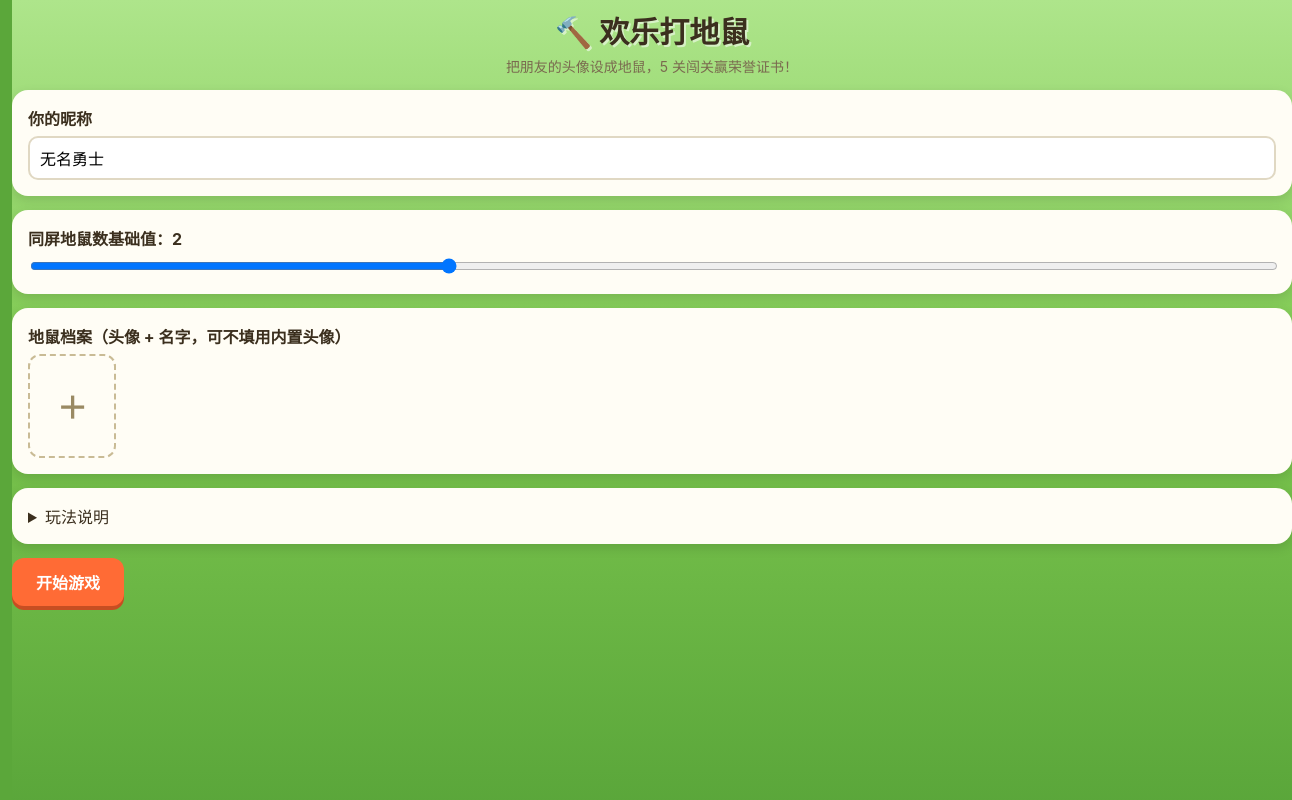
可添加与删除地鼠档案（名字可编辑）
The width and height of the screenshot is (1292, 800).
Click the button named "添加档案" at [72, 406], box [28, 354, 116, 458]
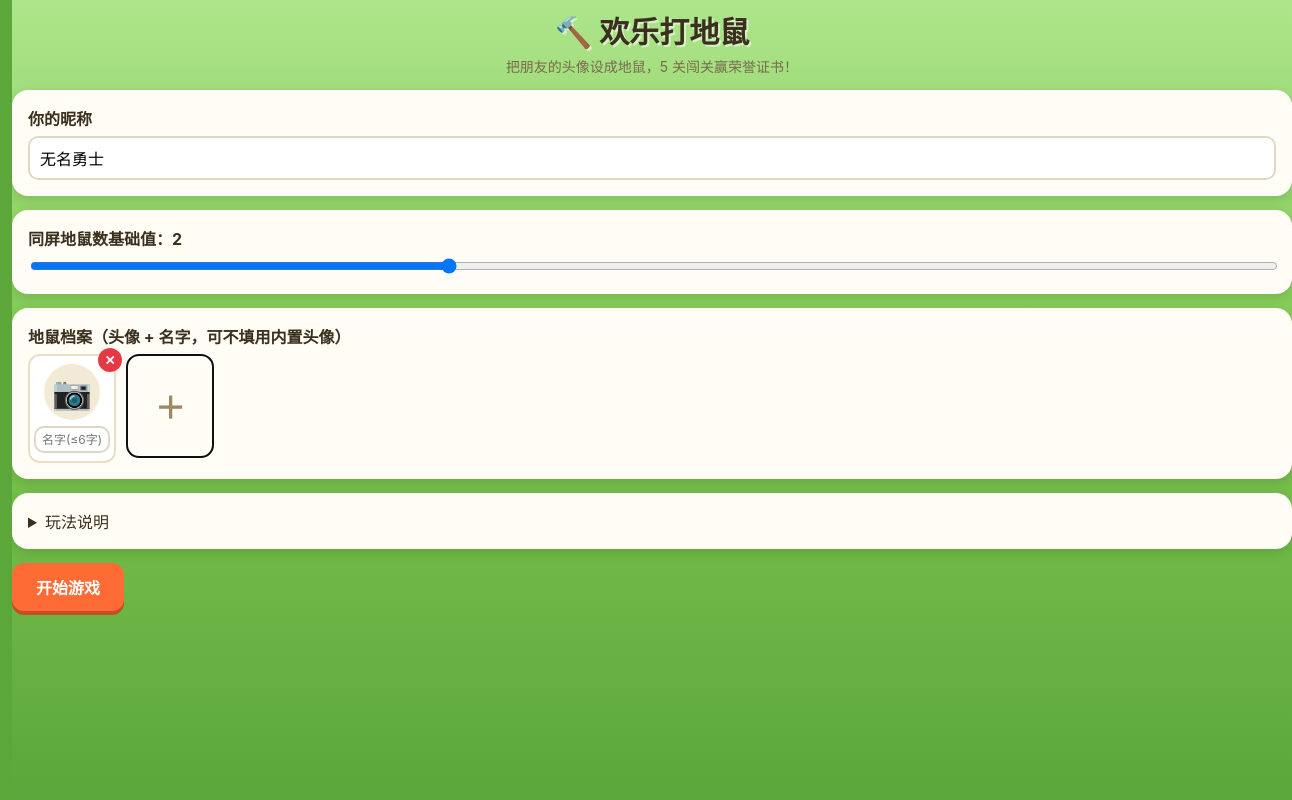
Type "王五" into the field with placeholder "名字(≤6字)" at [72, 440], box [34, 426, 110, 453]
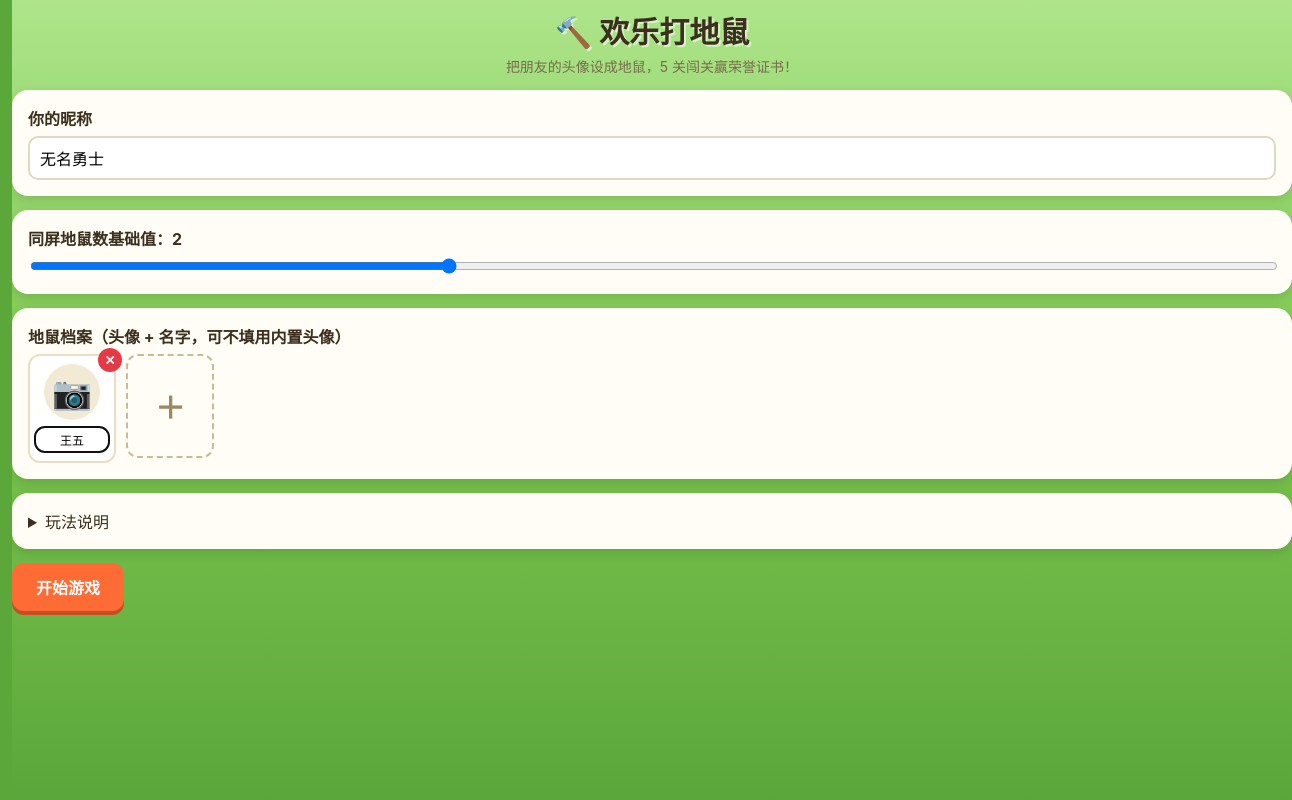
Click the button named "删除档案" at [110, 360], box [98, 348, 122, 372]
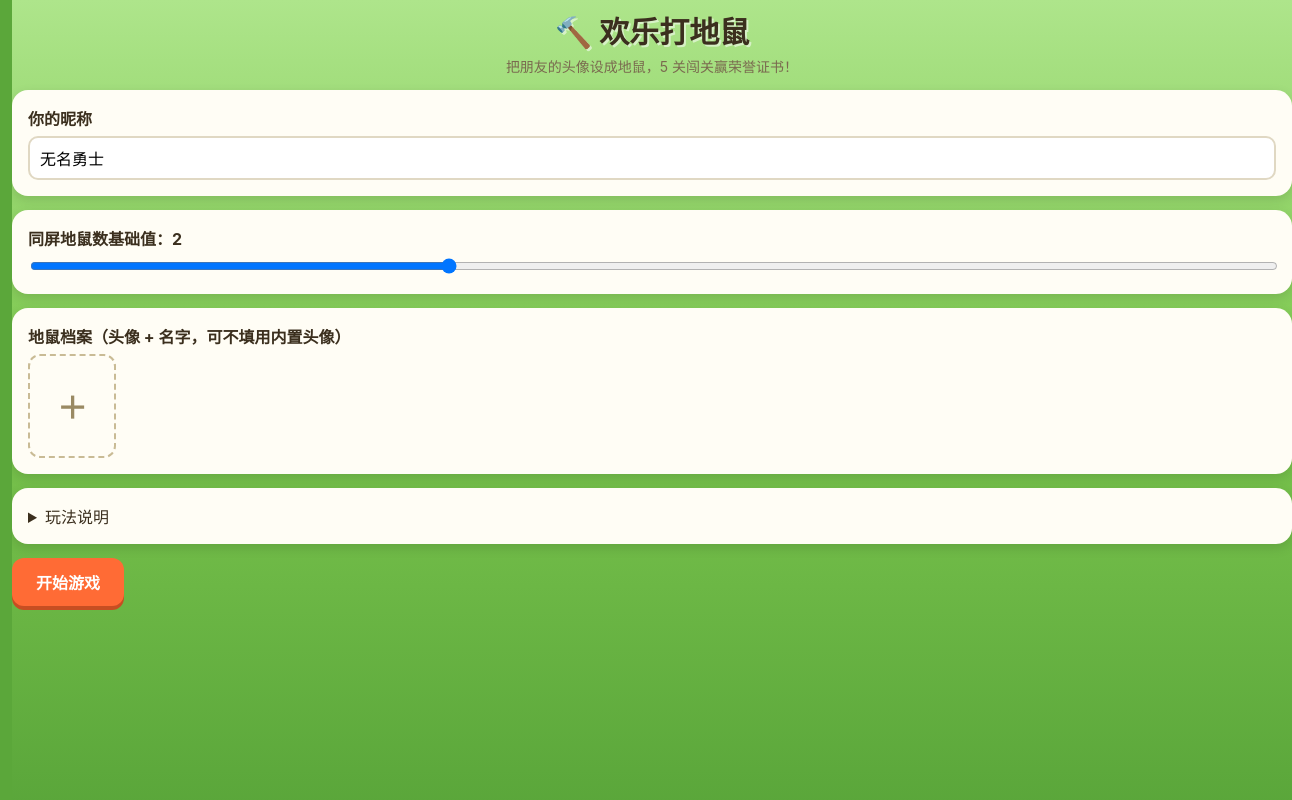
expect the field with placeholder "名字(≤6字)" is gone: met
